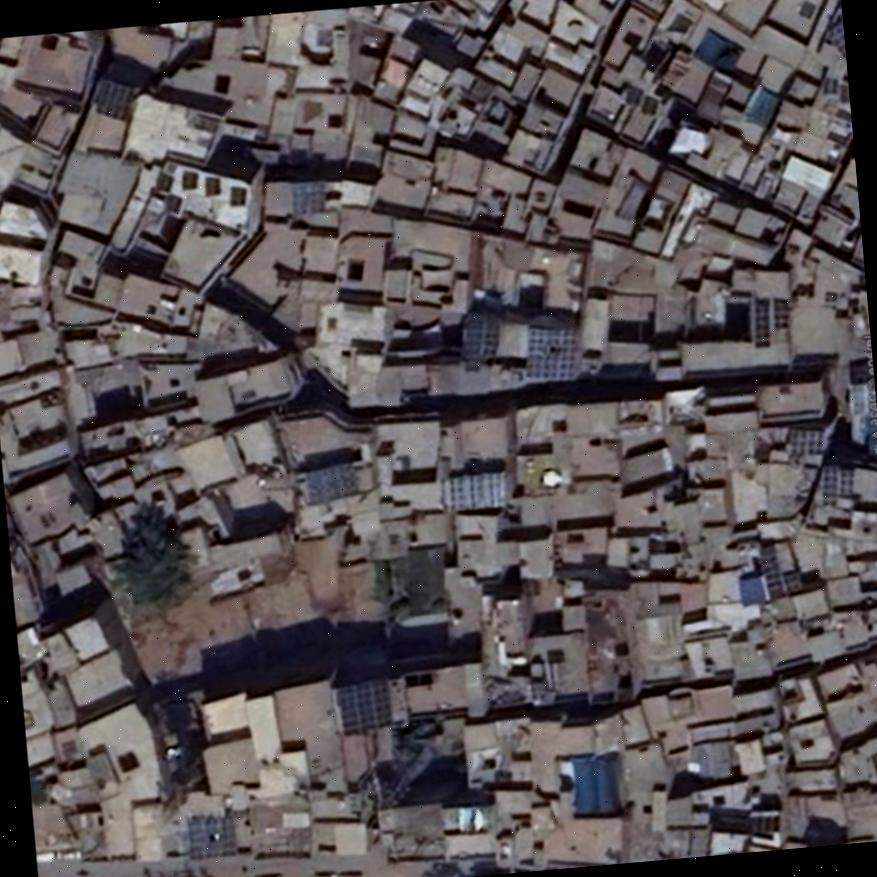Solarpanel: (336, 675, 392, 734), (444, 469, 505, 511), (525, 328, 575, 378), (186, 815, 234, 859), (307, 461, 355, 502), (466, 317, 499, 370), (94, 80, 134, 121), (760, 541, 784, 598), (289, 182, 324, 215), (753, 296, 768, 348), (790, 429, 820, 452), (821, 466, 838, 504), (772, 297, 789, 328), (839, 466, 854, 493), (783, 570, 801, 592)
